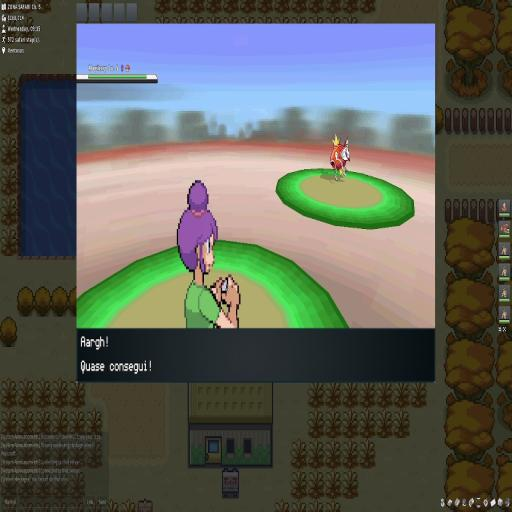MAGIKARP: (328, 136, 350, 181)
